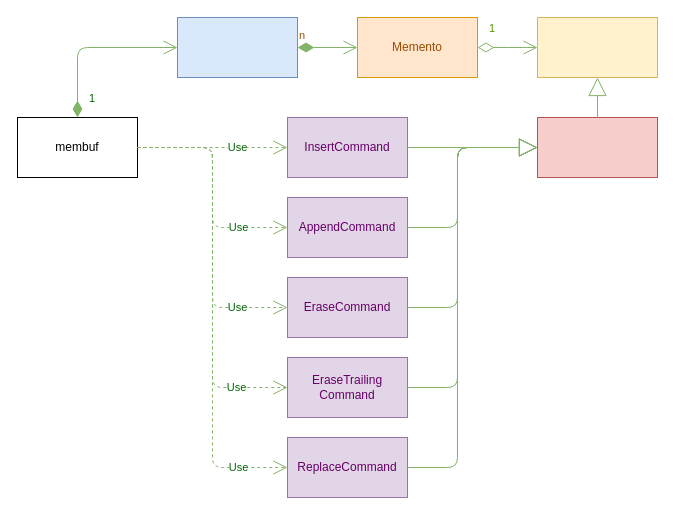
This 675x515 diagram has some shape labels left out. The shapes that lost their labels are listed below. From the top down, each one's centre as x and y in pixels, then its label:
point 237,47: StateController
point 597,47: Command
point 597,147: CommandCommon
